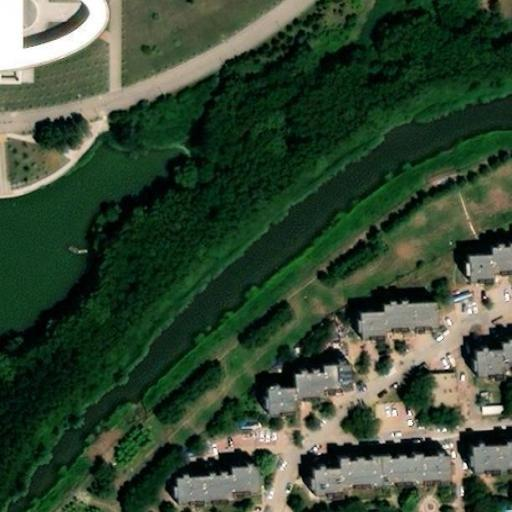building: (0, 0, 114, 78), (305, 466, 438, 512), (257, 368, 352, 425), (169, 475, 262, 512), (355, 307, 438, 343), (462, 252, 512, 292), (470, 348, 512, 391), (467, 455, 512, 489), (422, 366, 459, 406), (478, 398, 503, 414)
